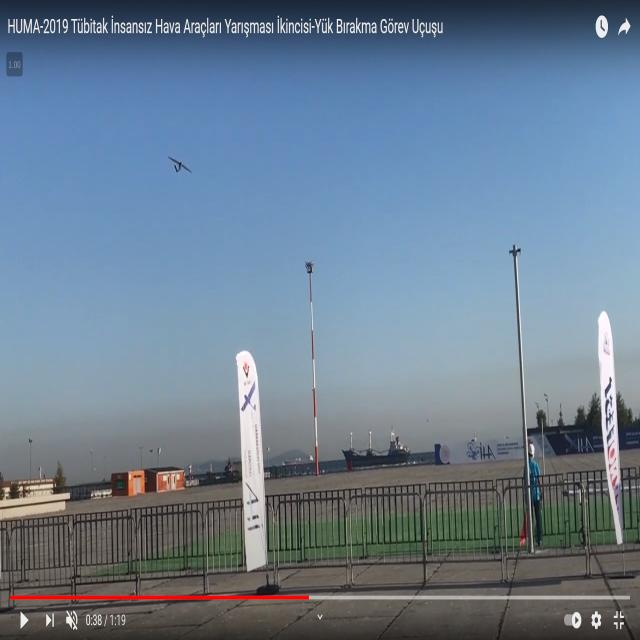iha: (166, 153, 192, 179)
